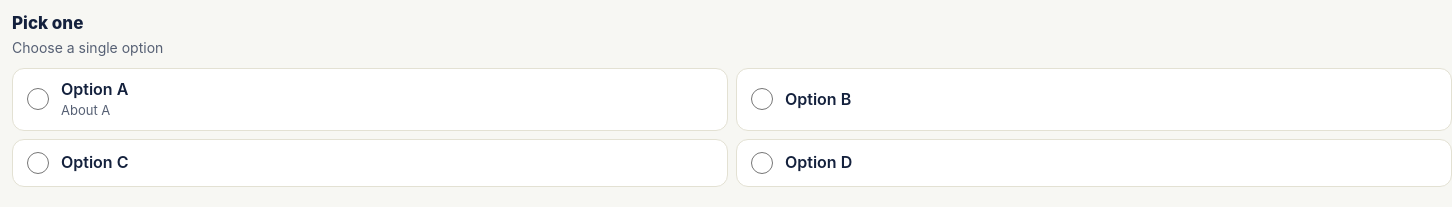
it: RadioCardGroup › selects on click, on tapping the label text, and via keyboard
Step 1. Click the radio button labelled "Option A About A" → [38, 99], box 27,88 -> 49,110
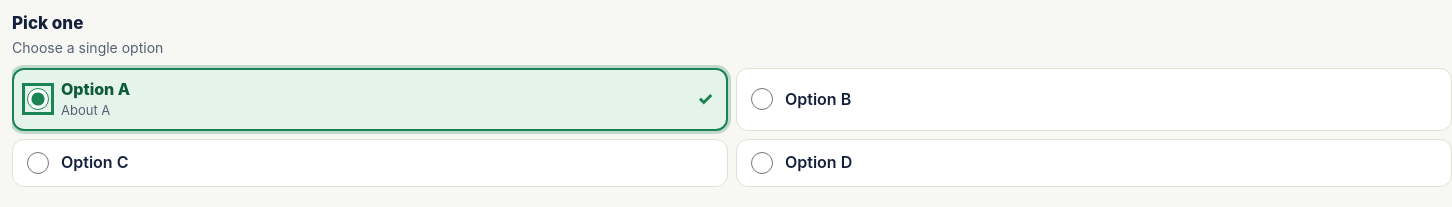
Check: the radio button labelled "Option A About A" is checked, box 27,88 -> 49,110
Step 2. Click the text "Option B" → [818, 99], box 785,89 -> 851,109
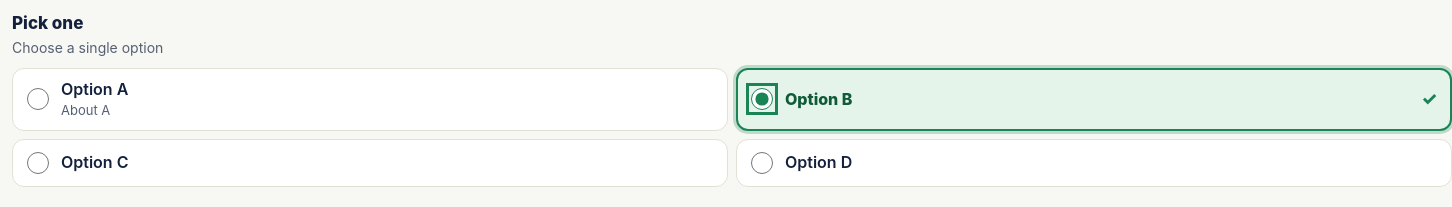
Check: the radio button labelled "Option A About A" is not checked, box 27,88 -> 49,110
Check: the radio button labelled "Option B" is checked, box 751,88 -> 773,110
Step 3. Press Arrowdown
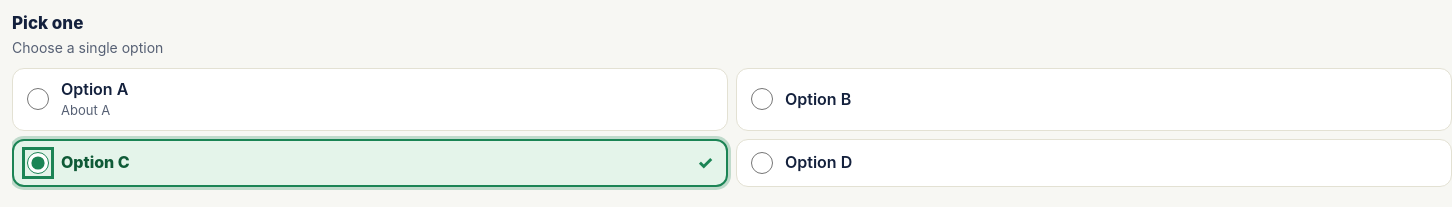
Check: the radio button labelled "Option C" is checked, box 27,152 -> 49,174
